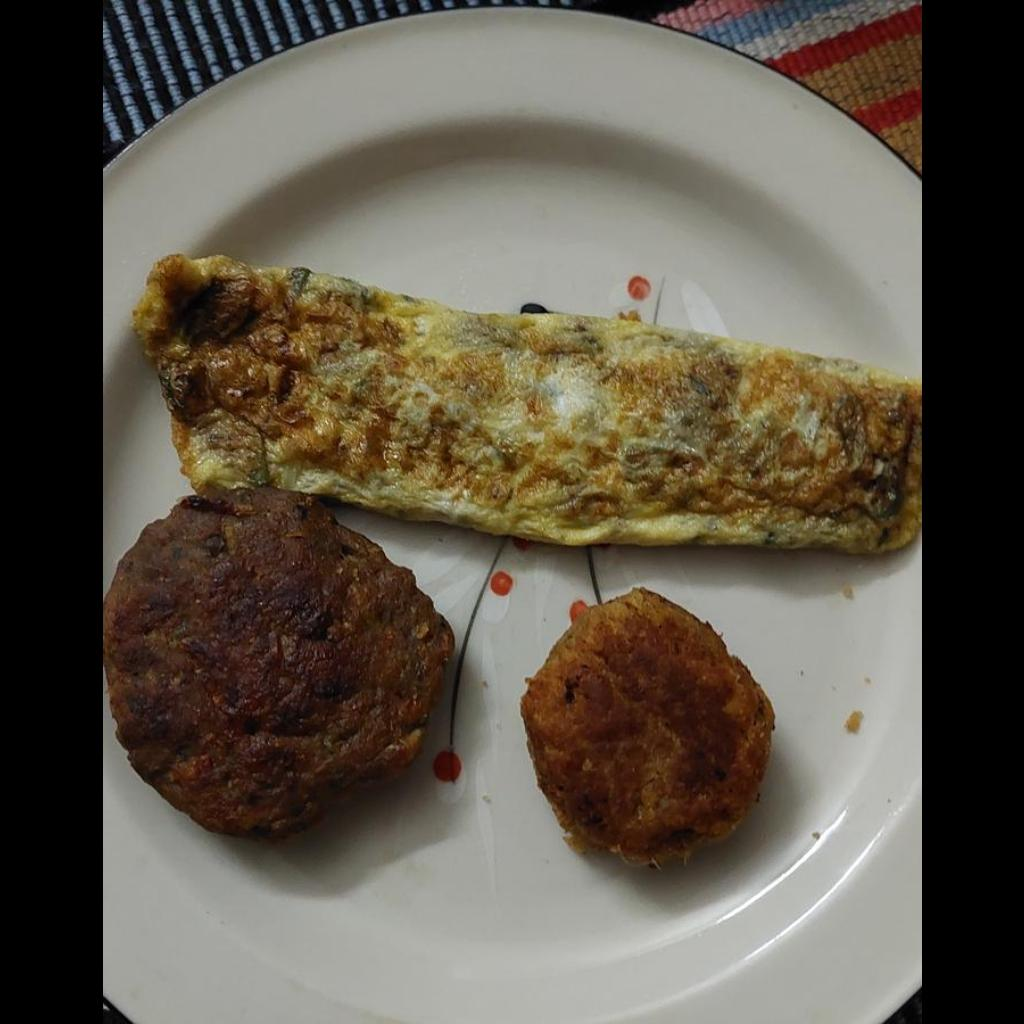egg-poached: (133, 252, 916, 553)
kabab: (102, 489, 452, 835), (520, 588, 772, 866)
